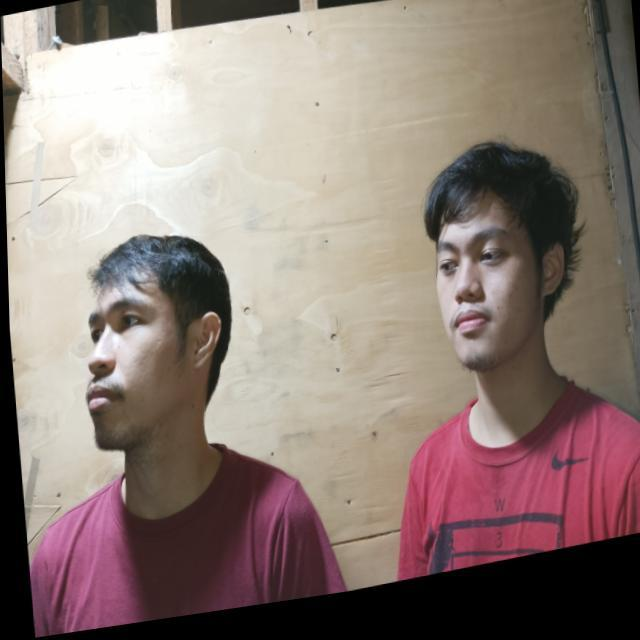Nonhelmet: (419, 138, 585, 374), (80, 230, 234, 452)
